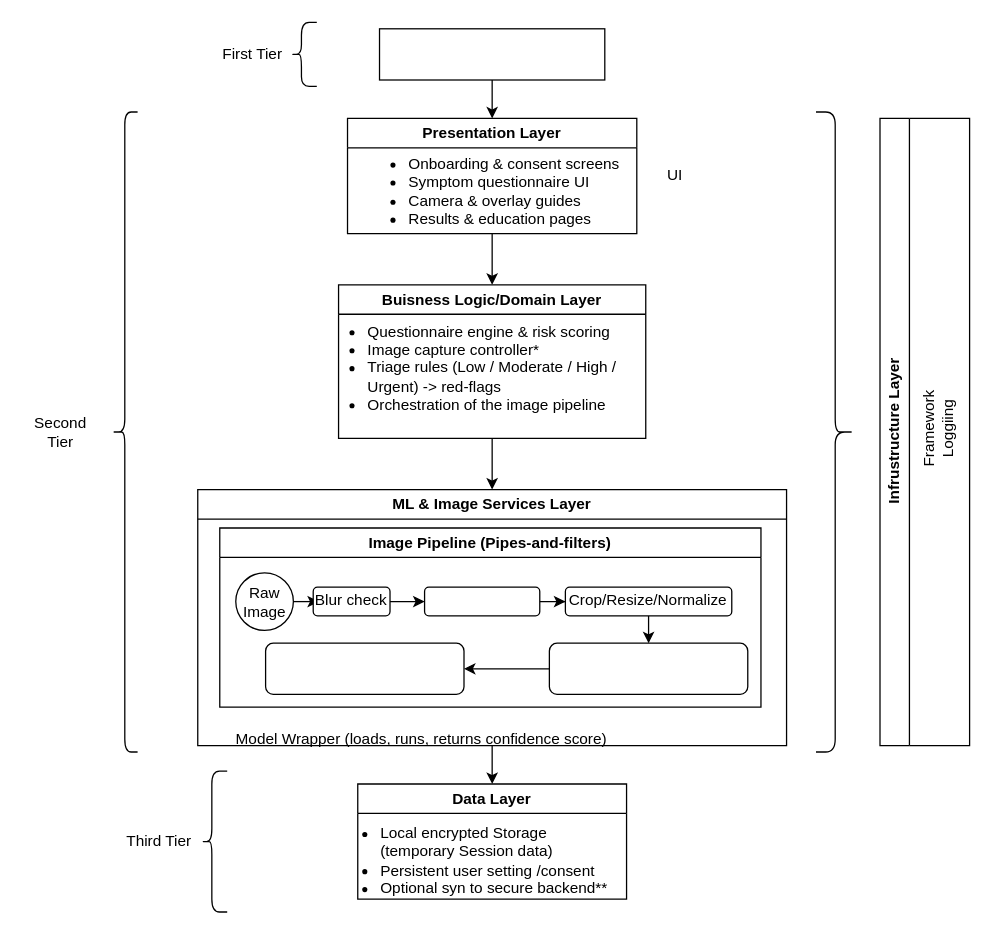
Some shapes in this 992 by 947 pixel diagram are drawn without their labels. Here are the shapes that lost their labels. From the top down, the centre of each, then its label:
the point at 491,54: User Interface Software App on Phone
the point at 481,601: Exposure check
the point at 364,668: Flags Featrues tirage engine
the point at 648,668: ML Inference (MobileNet/EfficientNet -lite)
